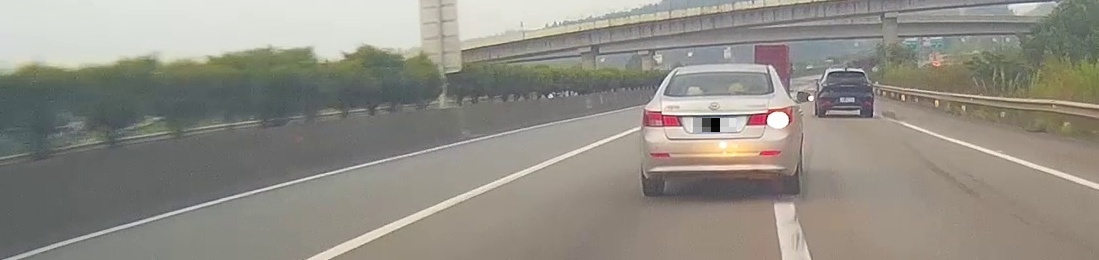L_light: (642, 109, 682, 127), (820, 82, 832, 87)
R_light: (746, 106, 793, 126), (861, 83, 872, 88)
T_light: (708, 71, 730, 76), (842, 71, 852, 74)
day-no: (816, 68, 874, 118)
day-right: (639, 63, 796, 197)
plate_1: (693, 118, 736, 132)
